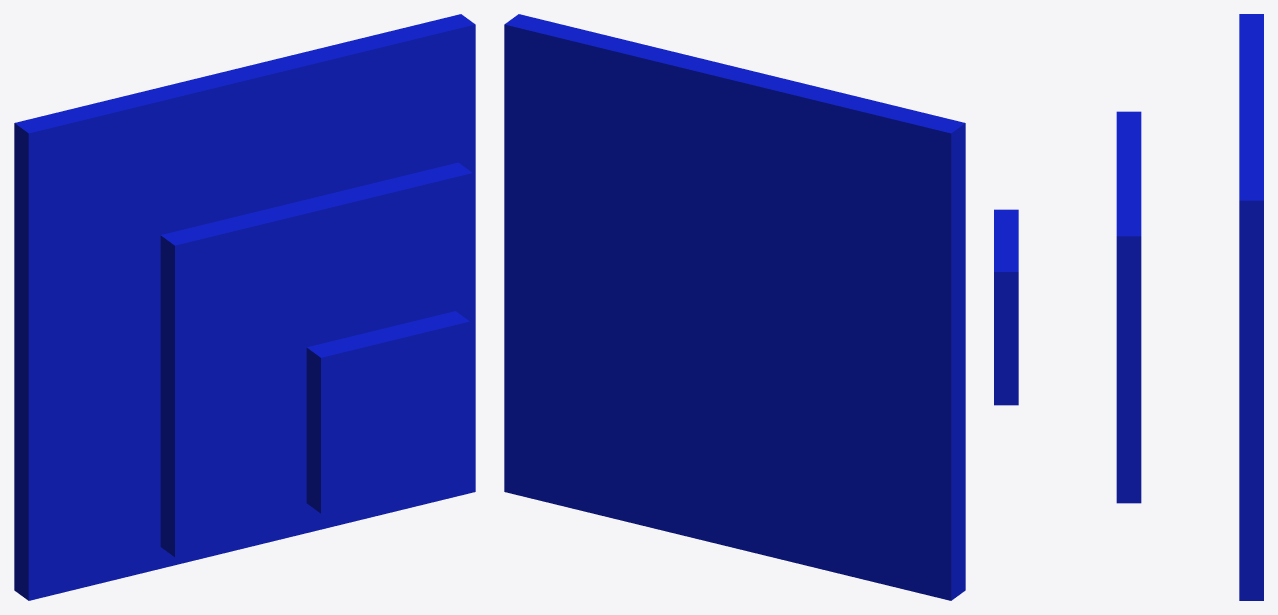
Rendered from GravityA.fbx.
3 views of the same model, side by side, from view 1: azimuth 30°, elevation 25°; view 2: azimuth 150°, elevation 25°; view 3: azimuth 270°, elevation 25° (orthographic). The views are drawn at different scales.
Visible parts, largest first — view 1: Cube.001, Cube.007, Cube.002; view 2: Cube.001; view 3: Cube.001, Cube.007, Cube.002.
Part boxes in pixels (bbox=[...]): Cube.001: bbox=[14, 14, 475, 600]; Cube.007: bbox=[160, 162, 472, 557]; Cube.002: bbox=[306, 311, 469, 513]; Cube.001: bbox=[504, 14, 965, 600]; Cube.001: bbox=[1239, 14, 1263, 600]; Cube.007: bbox=[1116, 111, 1141, 503]; Cube.002: bbox=[994, 209, 1018, 405].
Bounding box in the file's own units: 180 × 180 × 110.
